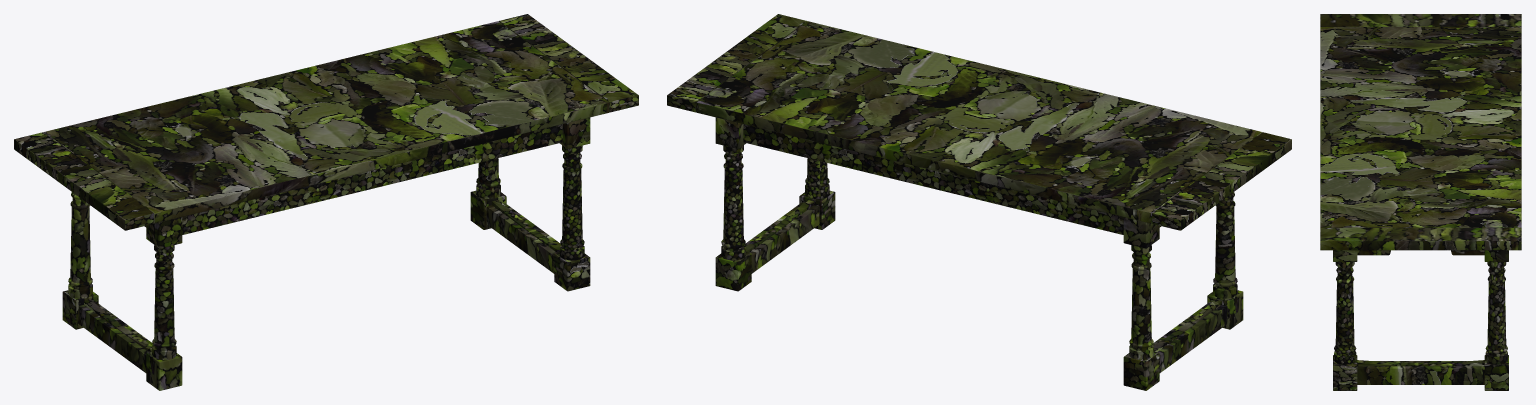
The model's file is bed.fbx.
The picture shows the model from 3 angles, left to right: view 1: azimuth 30°, elevation 25°; view 2: azimuth 150°, elevation 25°; view 3: azimuth 270°, elevation 25°; orthographic projection. The views are drawn at different scales.
Visible parts, largest first — view 1: Cube_0; view 2: Cube_0; view 3: Cube_0.
Part boxes in pixels (x1,y1,x2,y2): Cube_0: (14, 14, 638, 390); Cube_0: (667, 14, 1291, 390); Cube_0: (1320, 14, 1521, 390).
Size of what is drawn, in the model's own units: 715 by 247 by 268.
